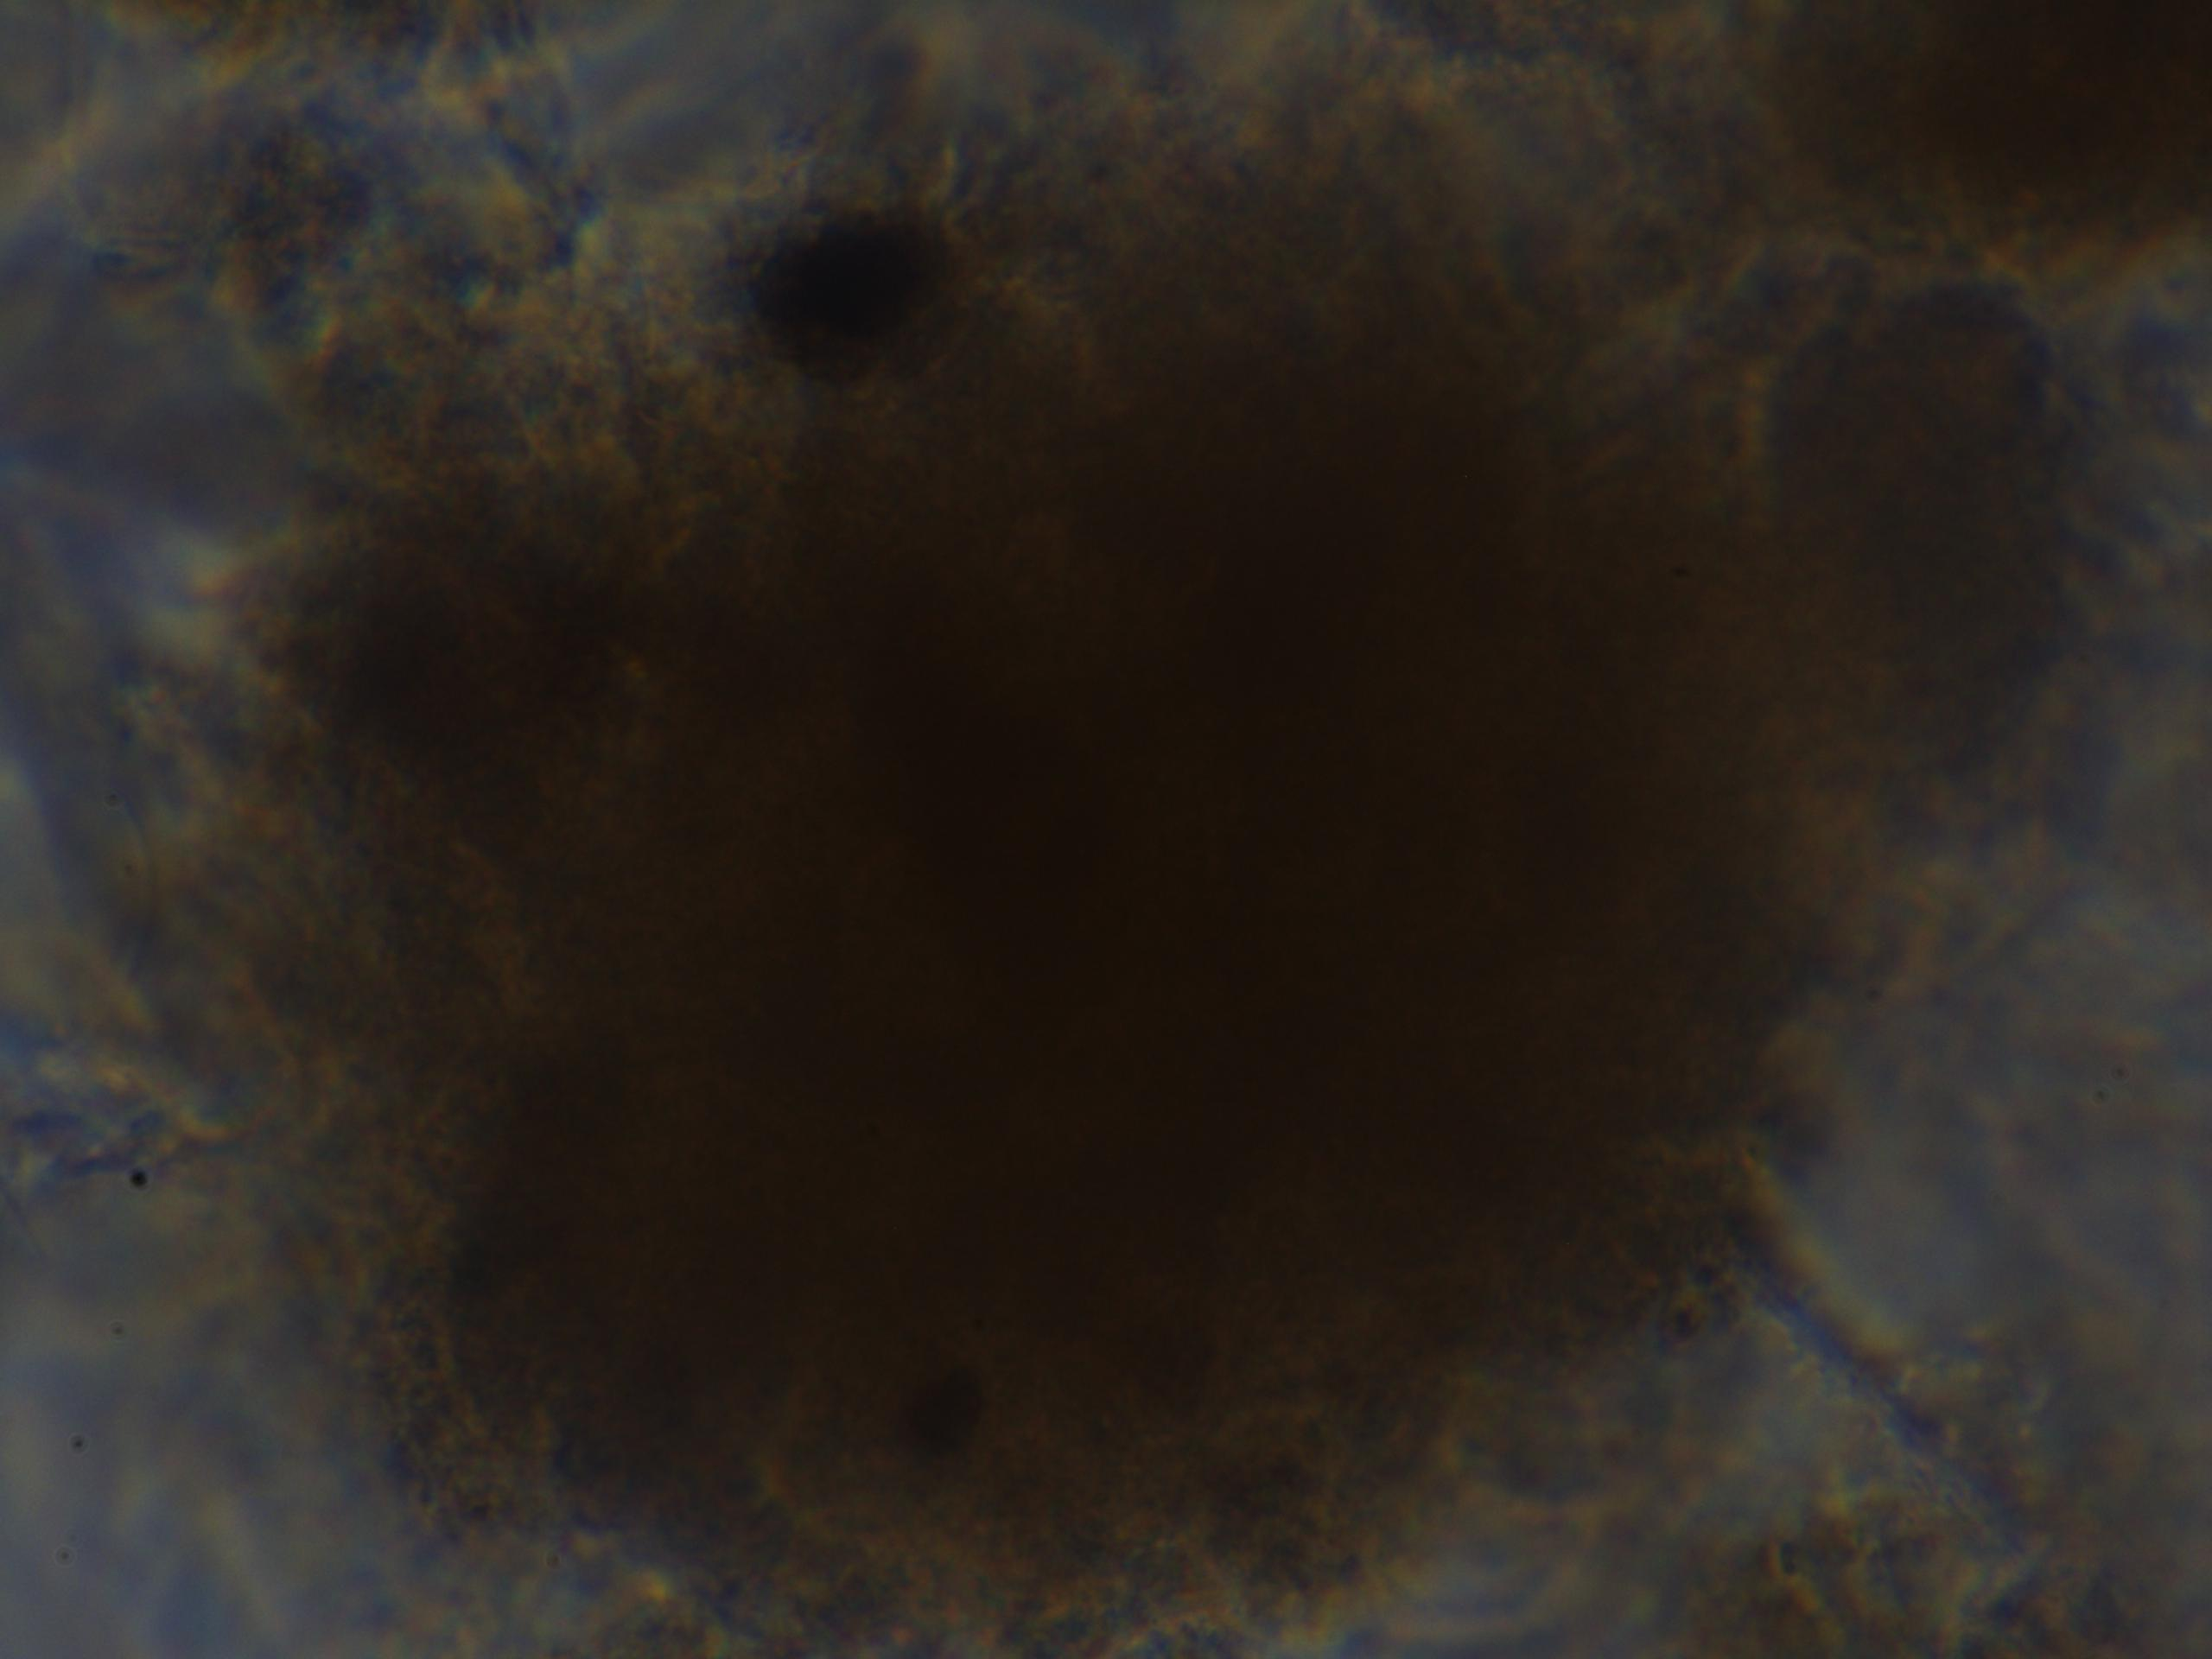spherical_floc: (188, 64, 1869, 1647)
